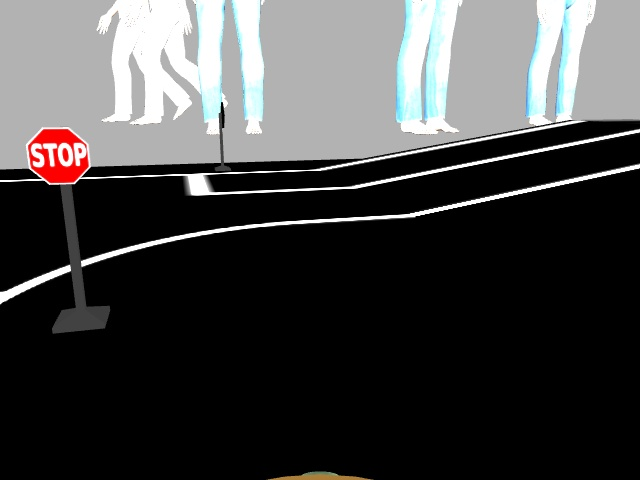Stop: (31, 127, 85, 183)
